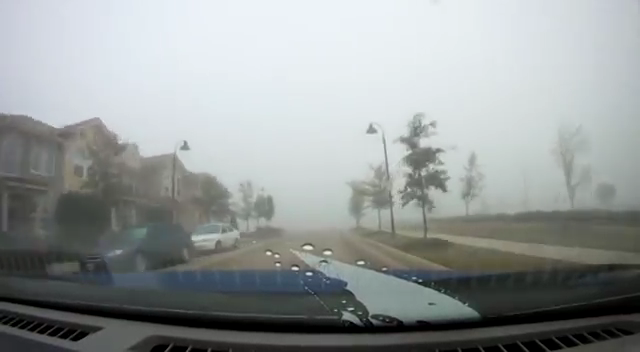car: (74, 224, 194, 278), (188, 223, 240, 251)
